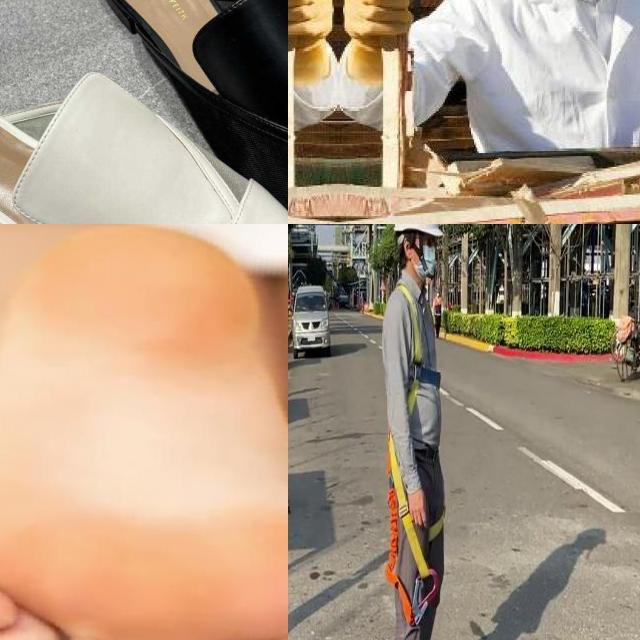Barefoots: (0, 224, 288, 640)
Harness: (385, 433, 441, 626)
Sandals: (0, 52, 288, 224), (85, 0, 288, 224)
hand_glove: (340, 0, 415, 47), (288, 0, 337, 57)
person: (409, 0, 640, 190)
